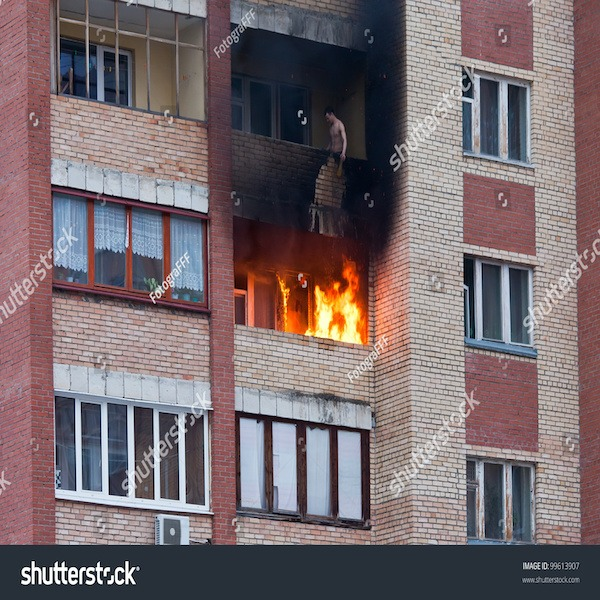fire: (311, 248, 370, 341), (275, 257, 309, 337)
